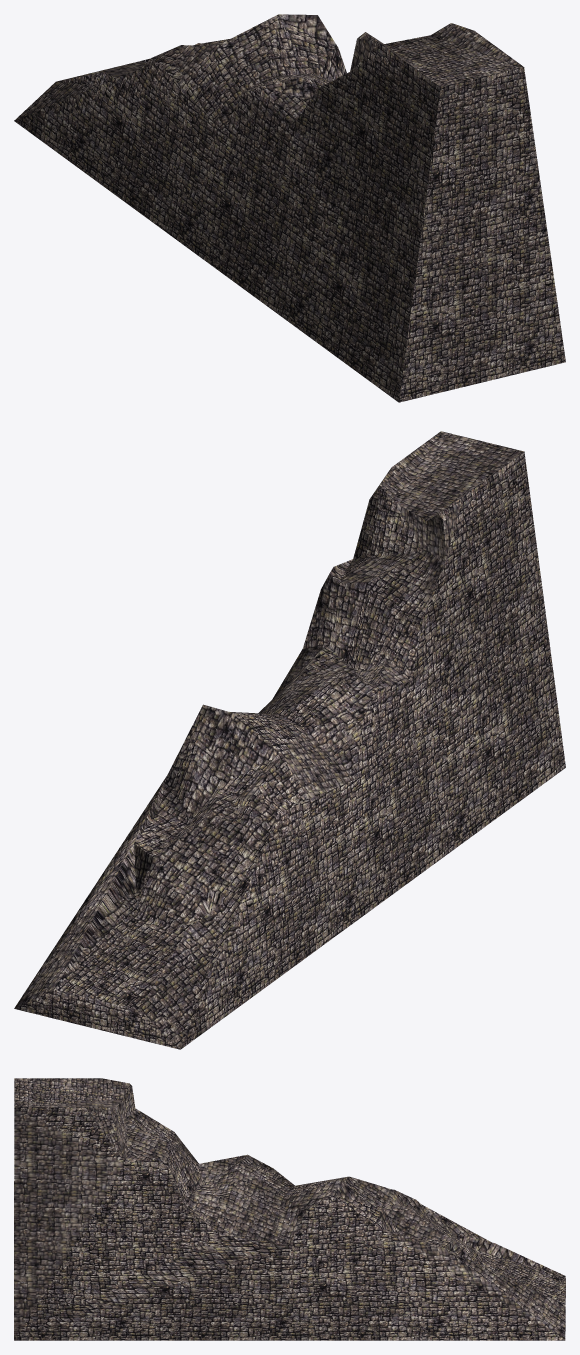
The model's file is pir_m_bld_frt_innerWallCrumbling_200.fbx.
The picture shows the model from 3 angles, top to bottom: view 1: azimuth 30°, elevation 25°; view 2: azimuth 150°, elevation 25°; view 3: azimuth 270°, elevation 25°; orthographic projection. The views are drawn at different scales.
Visible parts, largest first — view 1: lod_high; view 2: lod_high; view 3: lod_high.
Part boxes in pixels (<box>): lod_high: <box>14,14,565,402</box>; lod_high: <box>14,431,565,1049</box>; lod_high: <box>14,1078,565,1340</box>.
Size of the model in its own units: 5000 by 8750 by 20018.
1 material, 1 textured.
